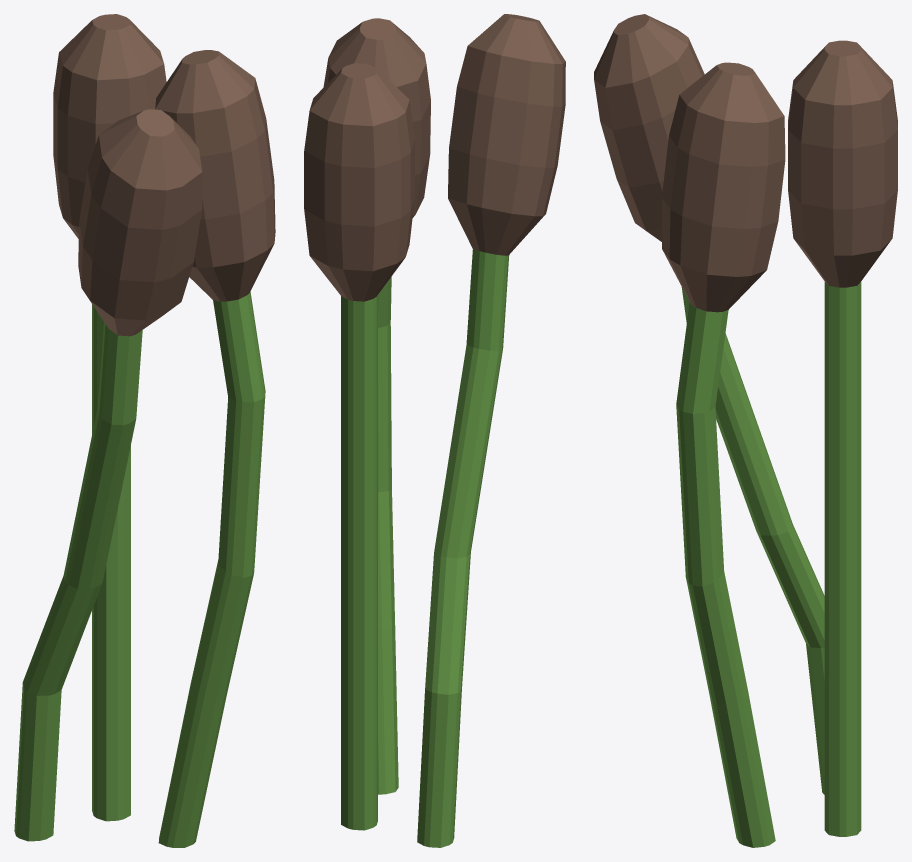
Rendered from Grass1.2.fbx.
The picture shows the model from 3 angles, left to right: view 1: azimuth 30°, elevation 25°; view 2: azimuth 150°, elevation 25°; view 3: azimuth 270°, elevation 25°; orthographic projection. The views are drawn at different scales.
Visible parts, largest first — view 1: Grass1.2; view 2: Grass1.2; view 3: Grass1.2.
Boxes of the visible parts, x1=… form: Grass1.2: x1=14, y1=14, x2=275, y2=847; Grass1.2: x1=304, y1=14, x2=565, y2=847; Grass1.2: x1=594, y1=14, x2=897, y2=847.
Size of the model in its own units: 55.41 by 201 by 70.88.
